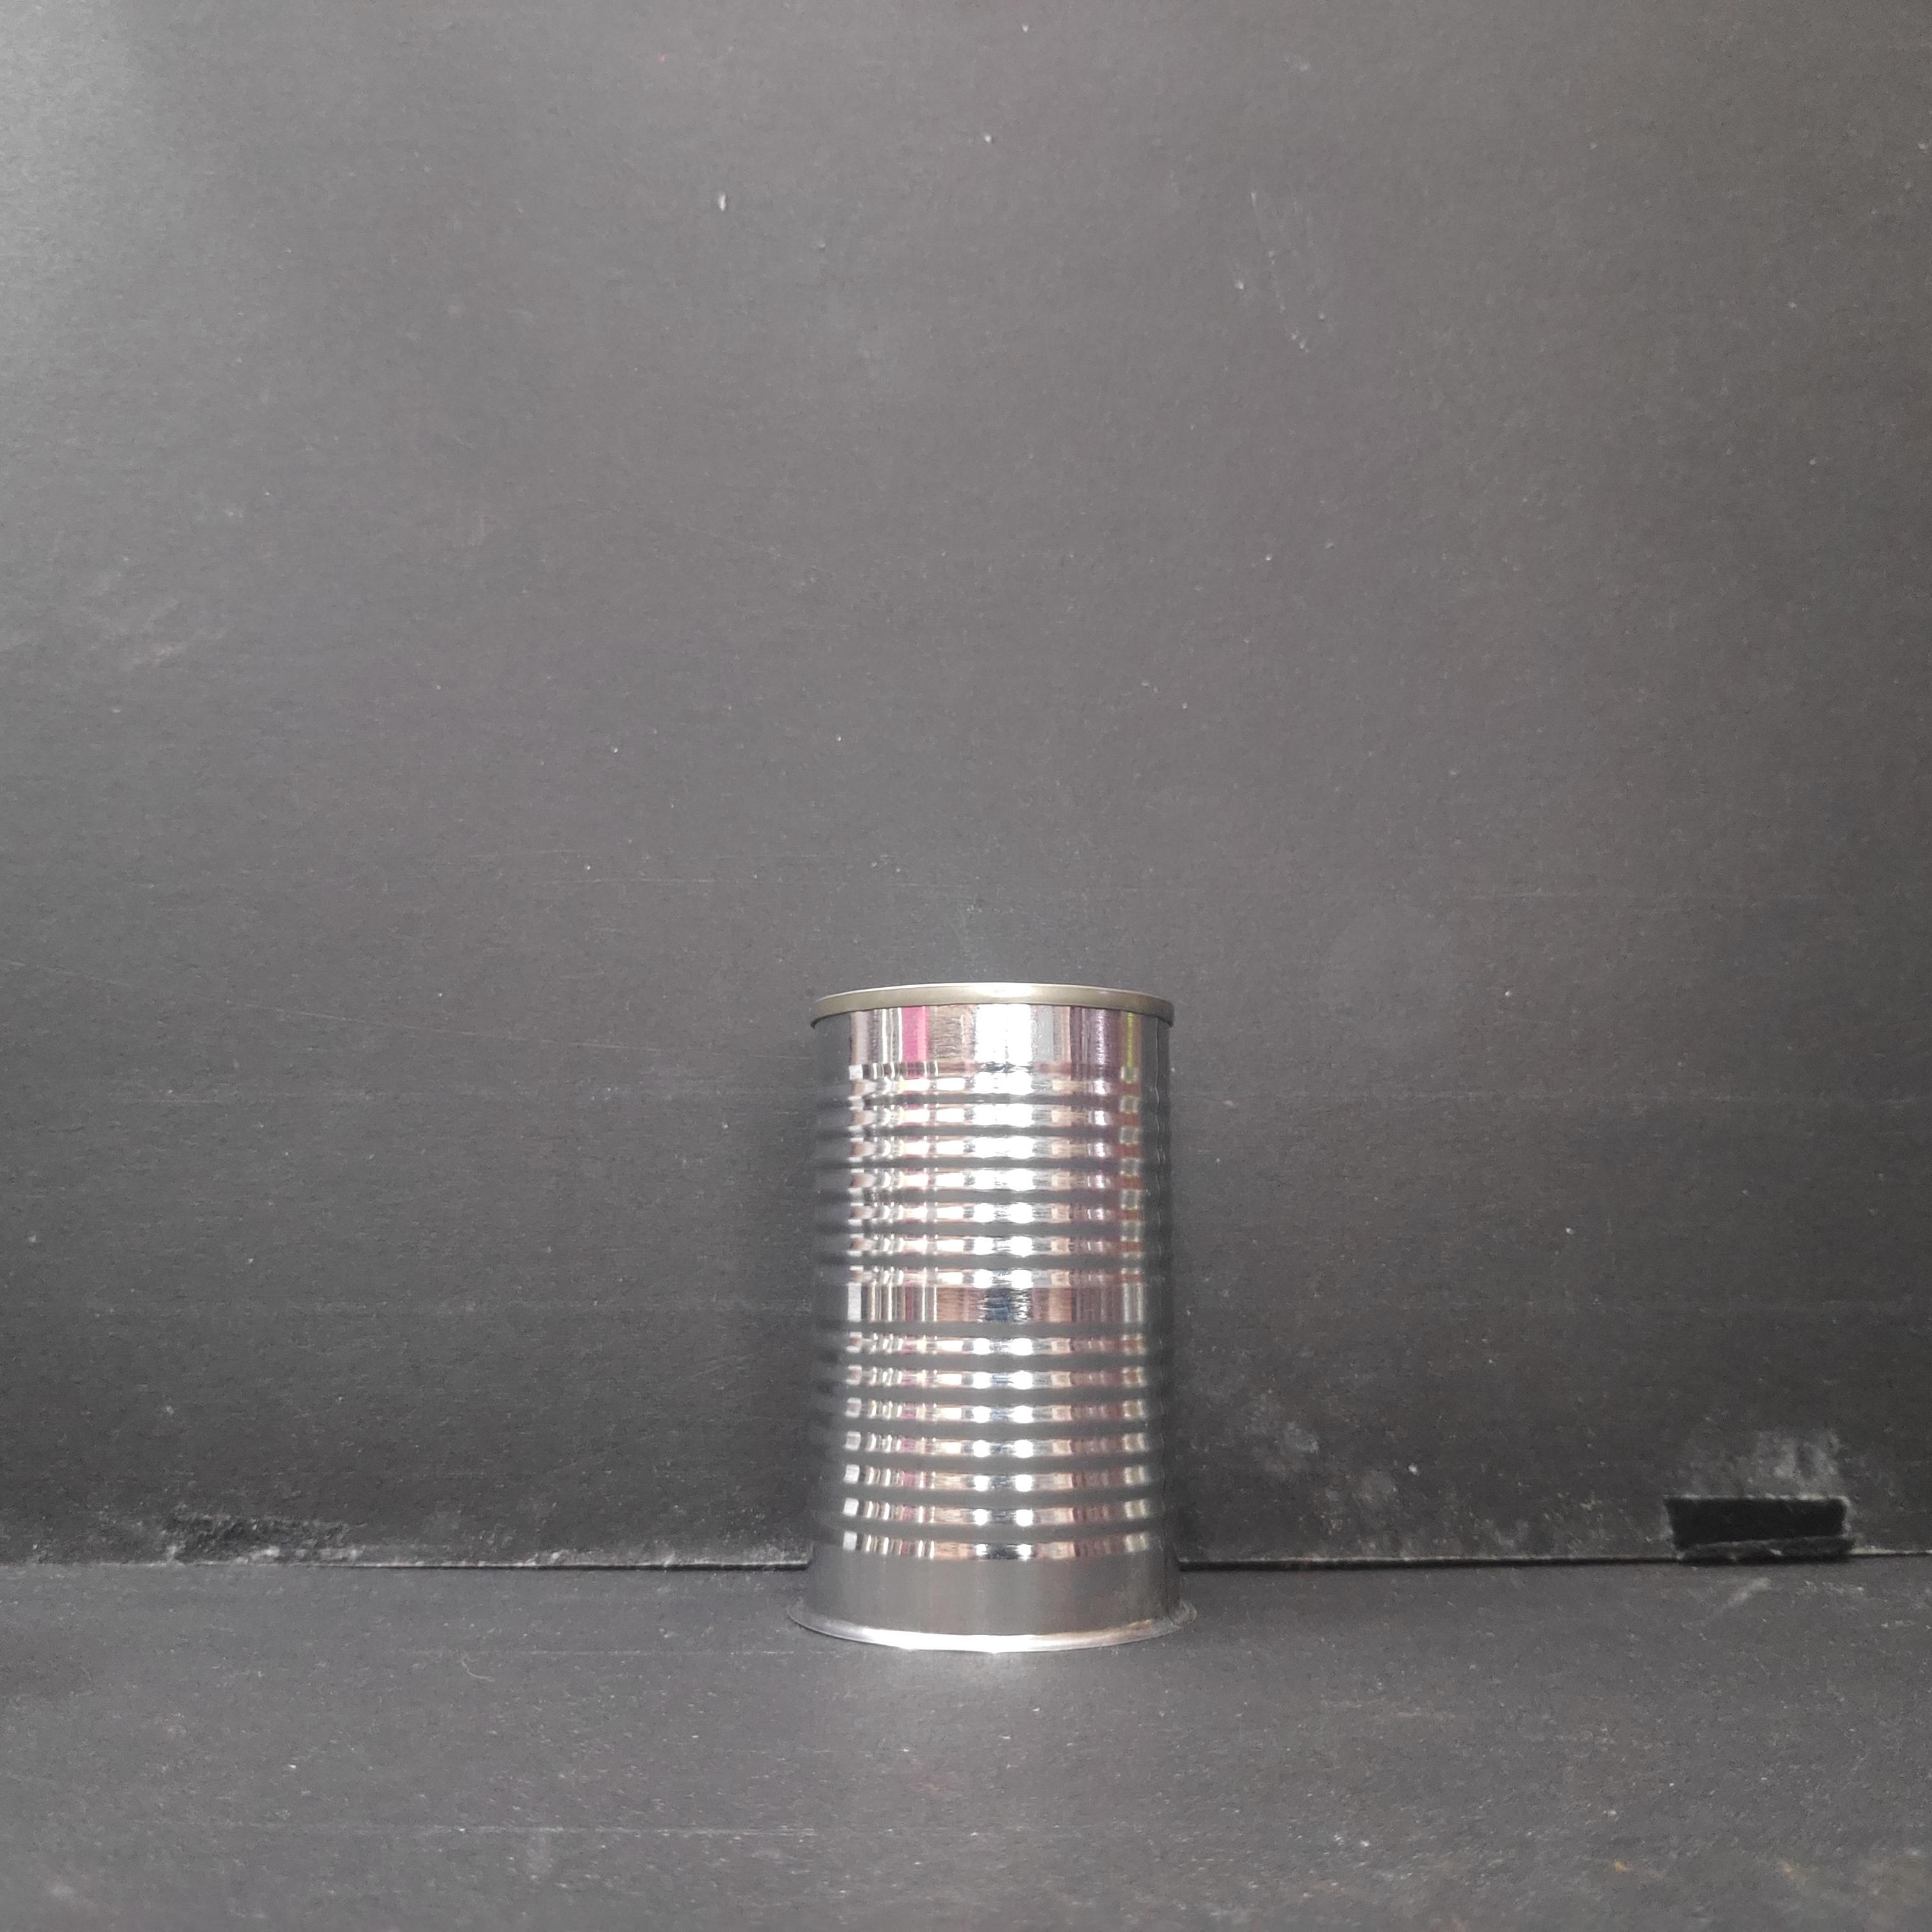No defect: (786, 978, 1200, 1658)
